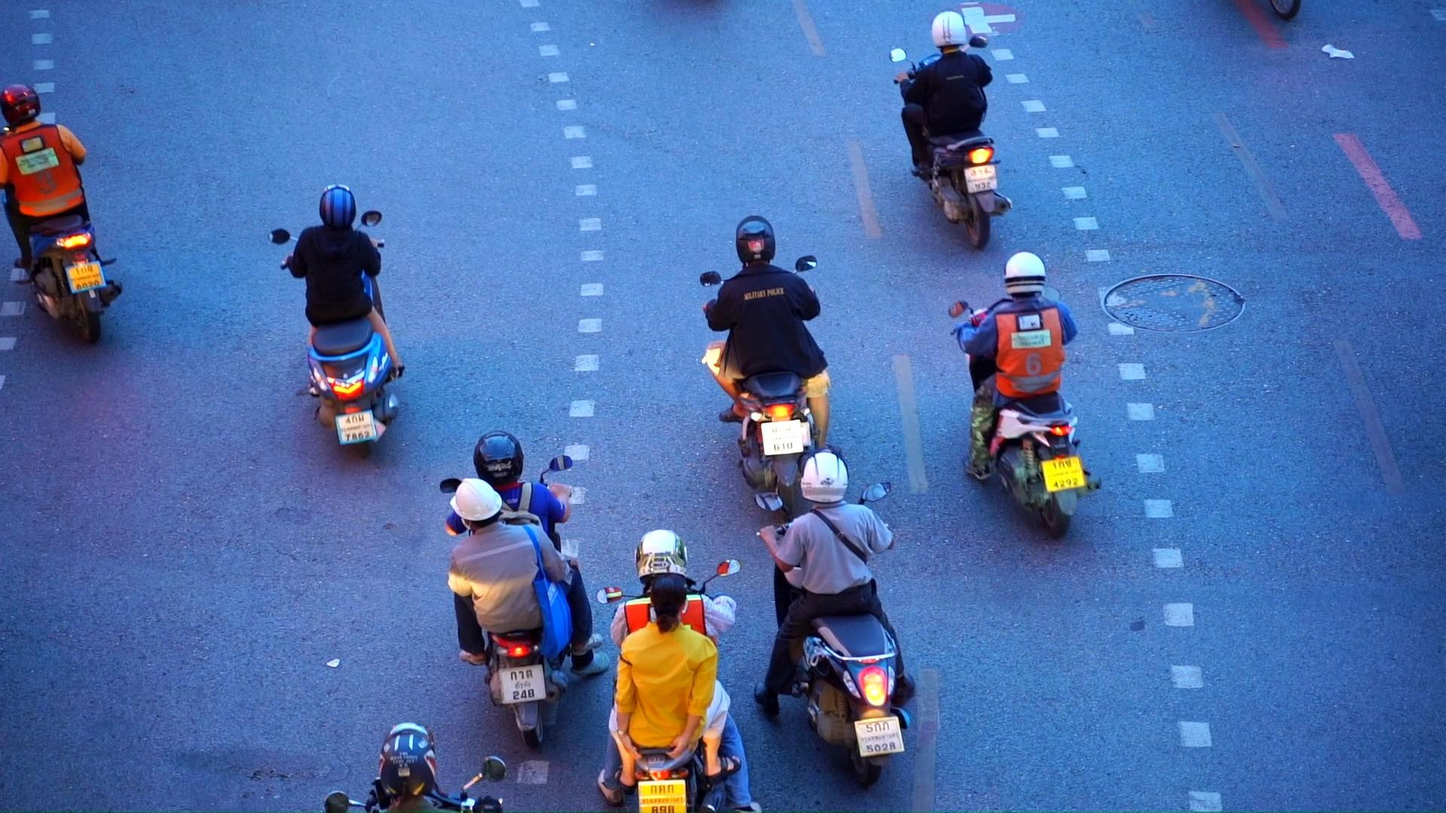driver: (440, 429, 610, 750), (756, 448, 916, 788), (595, 528, 763, 813), (948, 252, 1103, 542), (700, 214, 841, 522), (266, 184, 407, 461), (0, 82, 124, 345), (888, 10, 1013, 251), (323, 721, 508, 813)
helmet: (377, 721, 437, 808), (450, 477, 503, 537), (634, 528, 688, 585), (473, 430, 524, 487), (801, 449, 849, 504), (735, 214, 776, 270), (0, 84, 42, 133), (1004, 251, 1046, 298), (319, 185, 357, 232), (932, 11, 967, 53)
no-helmet: (650, 573, 689, 635)
